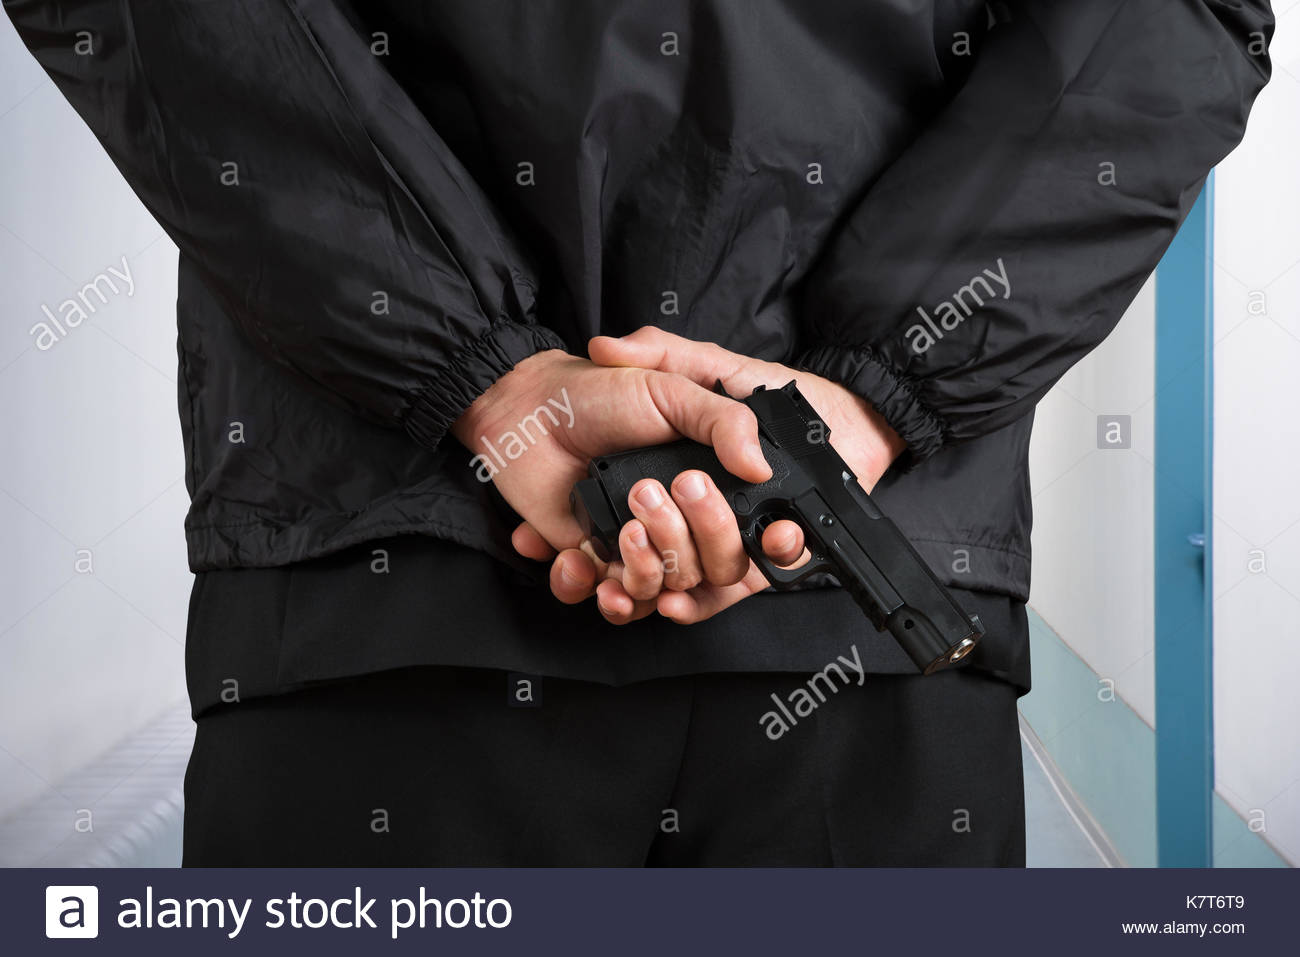pistol: (496, 318, 1037, 726)
